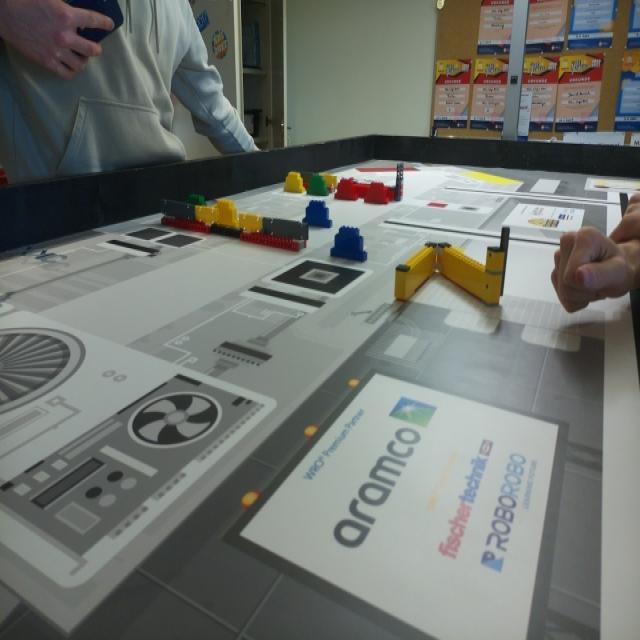blau: (336, 229, 366, 262), (305, 202, 332, 228)
gruen: (306, 175, 328, 197), (190, 191, 204, 203)
rot: (366, 184, 388, 206), (339, 180, 356, 200)
yellow: (218, 198, 237, 224), (285, 173, 302, 192)
